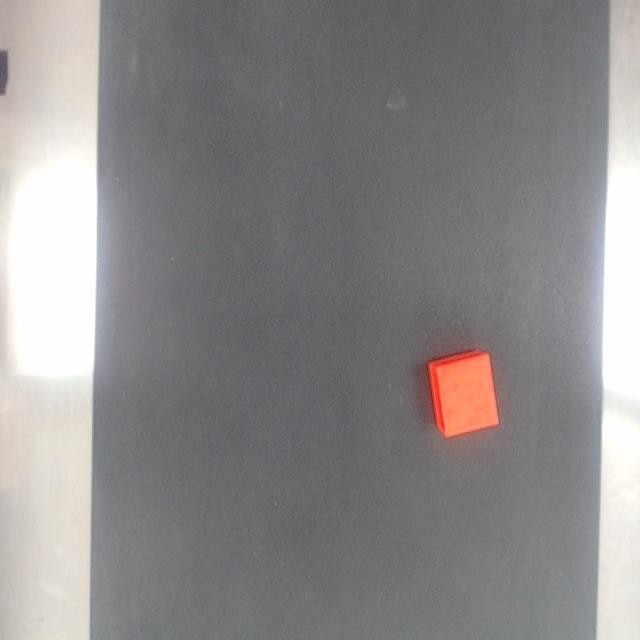Rojo: (427, 351, 498, 439)
